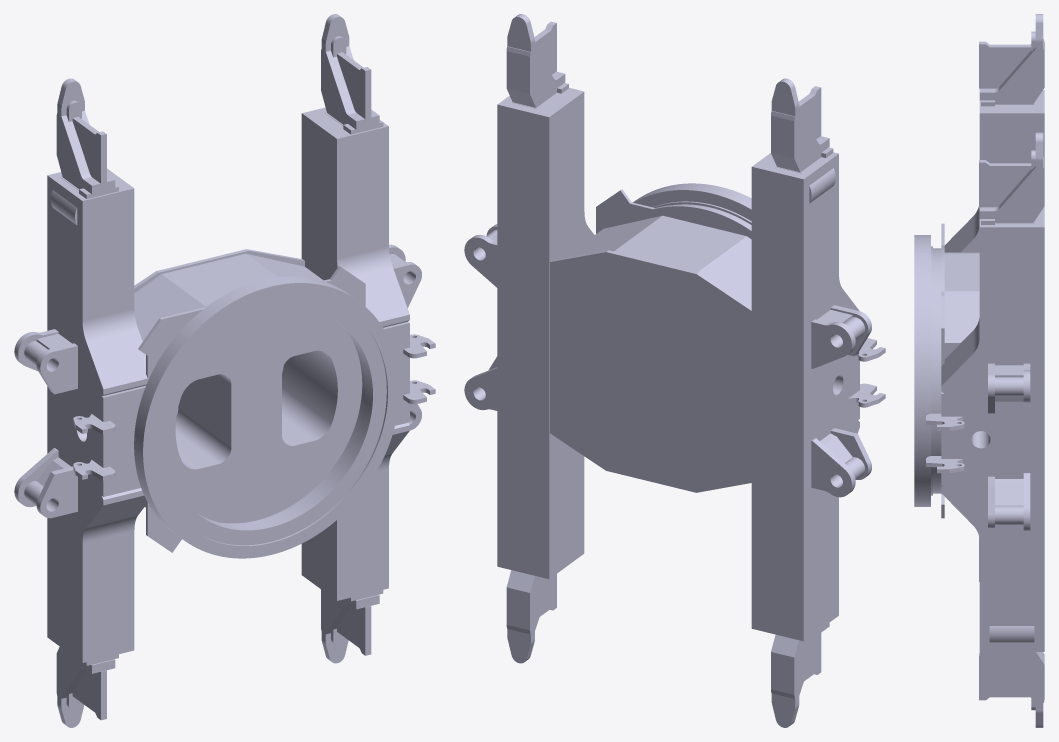
Rendered from CARBODY.obj.
The picture shows the model from 3 angles, left to right: view 1: azimuth 30°, elevation 25°; view 2: azimuth 150°, elevation 25°; view 3: azimuth 270°, elevation 25°; orthographic projection. The views are drawn at different scales.
Visible parts, largest first — view 1: HSC_1000HLX_CARBODY_WK_000_1-1000HLX_CARBODY_WK_MODEL (Meshed), HSC_1000HLX_TTB_000_1-1000HLX_TTB (Meshed); view 2: HSC_1000HLX_CARBODY_WK_000_1-1000HLX_CARBODY_WK_MODEL (Meshed), HSC_1000HLX_TTB_000_1-1000HLX_TTB (Meshed); view 3: HSC_1000HLX_CARBODY_WK_000_1-1000HLX_CARBODY_WK_MODEL (Meshed), HSC_1000HLX_TTB_000_1-1000HLX_TTB (Meshed).
Boxes of the visible parts, box(x1,y1,x2,y2) form: HSC_1000HLX_CARBODY_WK_000_1-1000HLX_CARBODY_WK_MODEL (Meshed): box(14, 14, 435, 727); HSC_1000HLX_TTB_000_1-1000HLX_TTB (Meshed): box(134, 276, 399, 558); HSC_1000HLX_CARBODY_WK_000_1-1000HLX_CARBODY_WK_MODEL (Meshed): box(464, 14, 885, 727); HSC_1000HLX_TTB_000_1-1000HLX_TTB (Meshed): box(633, 183, 751, 224); HSC_1000HLX_CARBODY_WK_000_1-1000HLX_CARBODY_WK_MODEL (Meshed): box(926, 14, 1044, 727); HSC_1000HLX_TTB_000_1-1000HLX_TTB (Meshed): box(914, 235, 932, 506).
Bounding box in the file's own units: 2984 × 4754 × 944.
